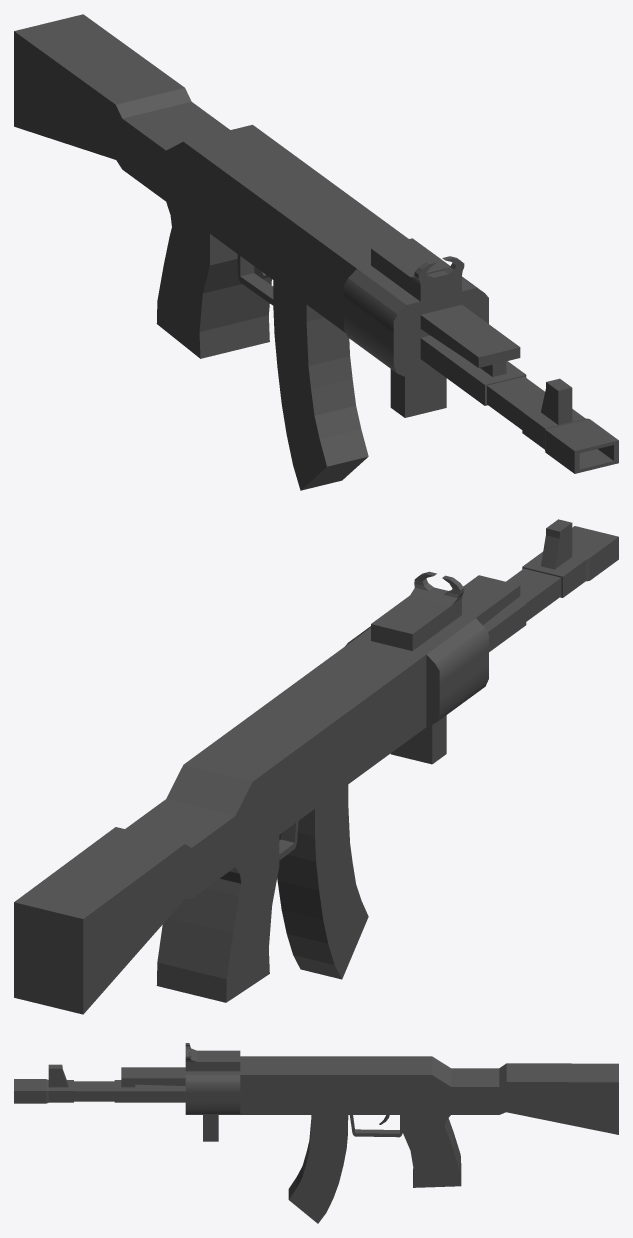
The model's file is riful.fbx.
The picture shows the model from 3 angles, top to bottom: view 1: azimuth 30°, elevation 25°; view 2: azimuth 150°, elevation 25°; view 3: azimuth 270°, elevation 25°; orthographic projection. The views are drawn at different scales.
Visible parts, largest first — view 1: Box001; view 2: Box001; view 3: Box001.
Boxes of the visible parts, x1,y1,x2,y2 form: Box001: (14, 14, 618, 490); Box001: (14, 519, 618, 1014); Box001: (14, 1043, 618, 1223).
Size of the model in its own units: 10.42 by 104 by 32.54.
Materials: 1 (1 with a texture image).
